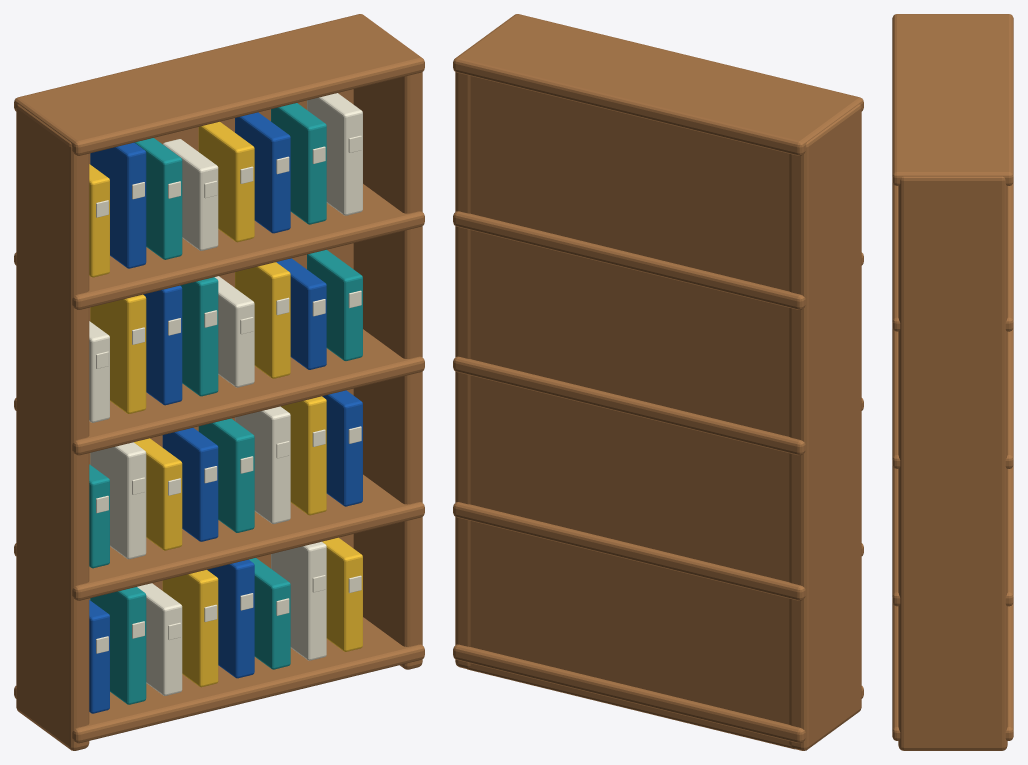
File: ArchiveBookcase.fbx
3 views of the same model, side by side, from view 1: azimuth 30°, elevation 25°; view 2: azimuth 150°, elevation 25°; view 3: azimuth 270°, elevation 25° (orthographic). The views are drawn at different scales.
Parts seen in each view (by area): view 1: Side, Side.001, Shelf.004, Shelf.002, Shelf.003, Shelf.001, Shelf, Reference volume.025, Reference volume.017, Reference volume.006, Reference volume.028, Reference volume.031 (+28 smaller); view 2: Back, Side, Shelf.004, Side.001, Shelf.002, Shelf, Shelf.003, Shelf.001; view 3: Side.001, Shelf.004, Shelf.003, Shelf.001, Shelf.002, Shelf.
Part boxes in pixels (x1,y1,x2,y2): Side: (16,104,89,750); Side.001: (353,72,422,669); Shelf.004: (14,14,424,155); Shelf.002: (14,329,424,455); Shelf.003: (14,184,424,309); Shelf.001: (14,474,424,600); Shelf: (14,617,424,743); Reference volume.025: (90,142,146,268); Reference volume.017: (90,294,146,413); Reference volume.006: (271,541,326,660); Reference volume.028: (198,121,254,242); Reference volume.031: (307,93,362,215); Back: (466,76,794,749); Side: (789,104,861,750); Shelf.004: (453,14,863,155); Side.001: (455,72,470,668); Shelf.002: (453,356,863,455); Shelf: (453,644,863,743); Shelf.003: (453,211,863,309); Shelf.001: (453,502,863,600); Side.001: (898,176,1007,750); Shelf.004: (892,14,1013,185); Shelf.003: (892,182,1013,331); Shelf.001: (892,465,1013,606); Shelf.002: (892,328,1013,468); Shelf: (892,602,1013,740).
Size of the model in its own units: 1.27 by 2.1 by 0.4.
